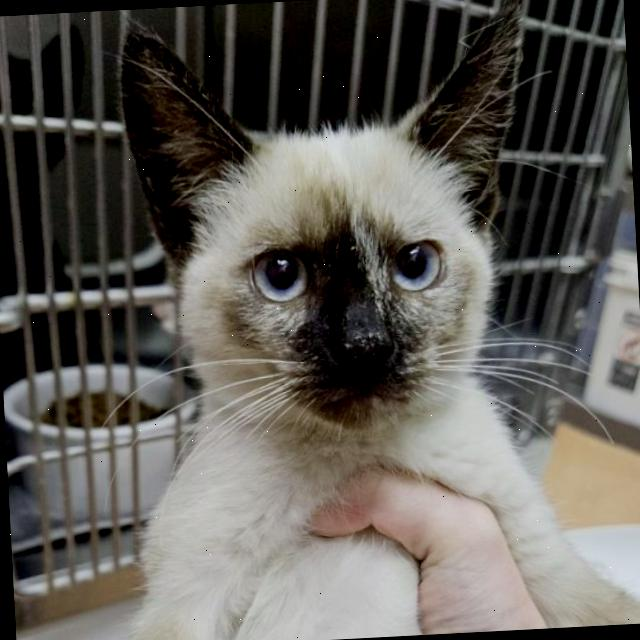siamese_cat: (90, 2, 575, 498)
